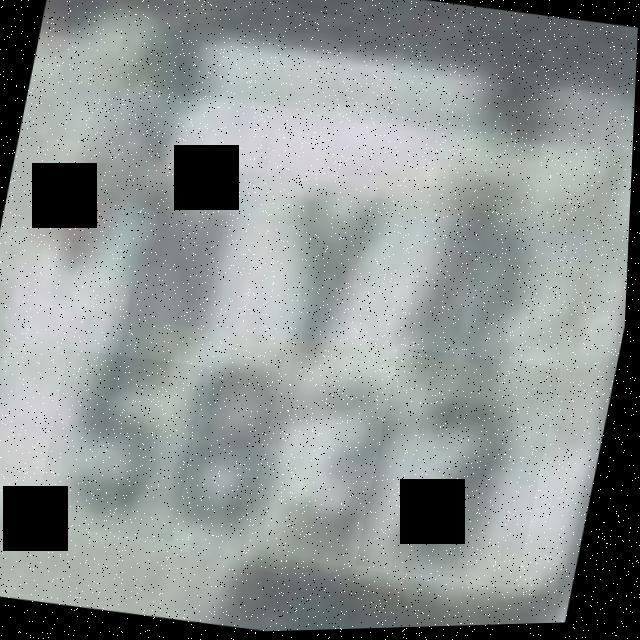3: (360, 346, 565, 594), (257, 344, 444, 582)
5: (37, 346, 214, 546)
8: (250, 351, 435, 580), (151, 338, 328, 561)
B: (381, 158, 561, 397)
Y: (236, 150, 413, 373)
